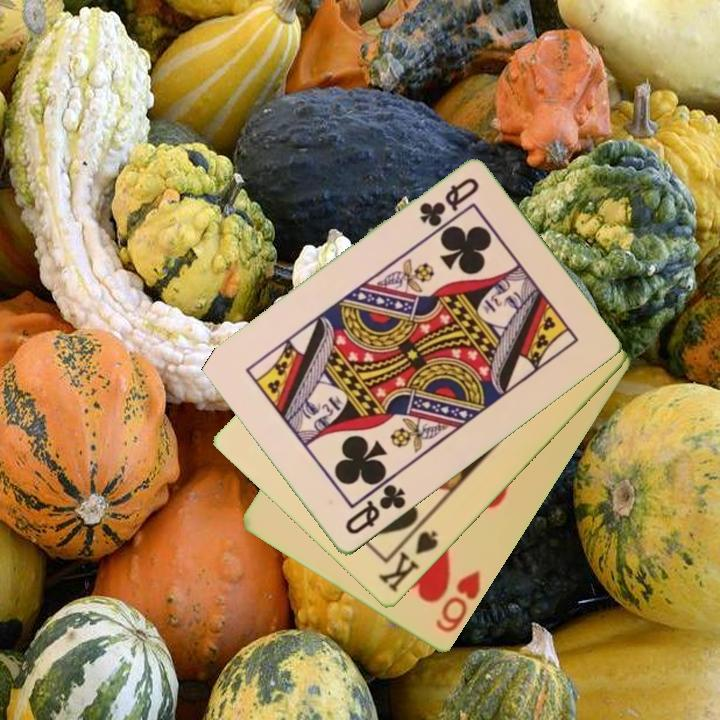6h: (432, 567, 484, 636)
Ks: (375, 519, 441, 597)
Qc: (341, 481, 409, 538), (415, 174, 482, 231)
